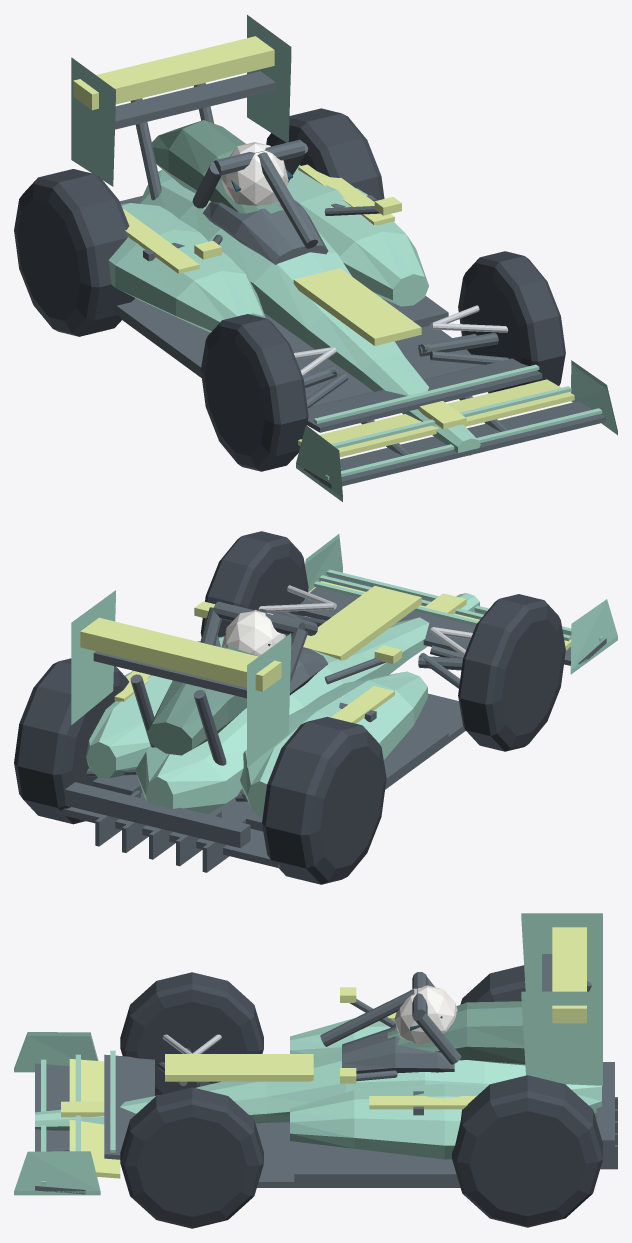
File: aston_mobile.glb
3 views of the same model, one above another, from view 1: azimuth 30°, elevation 25°; view 2: azimuth 150°, elevation 25°; view 3: azimuth 270°, elevation 25° (orthographic). The views are drawn at different scales.
Visible parts, largest first — view 1: BODY_paint, BODY_carbon, BODY_accent, RearLeftWheel_rubber, FrontLeftWheel_rubber, FrontRightWheel_rubber, RearRightWheel_rubber, BODY_paint_dark, BODY_helmet, BODY_metal; view 2: BODY_paint, BODY_carbon, RearLeftWheel_rubber, BODY_accent, FrontLeftWheel_rubber, RearRightWheel_rubber, FrontRightWheel_rubber, BODY_paint_dark, BODY_helmet, BODY_metal; view 3: BODY_paint, BODY_carbon, RearRightWheel_rubber, FrontRightWheel_rubber, BODY_accent, FrontLeftWheel_rubber, BODY_paint_dark, BODY_helmet, RearLeftWheel_rubber.
Boxes of the visible parts, x1,y1,x2,y2 form: BODY_paint: [71, 15, 617, 501]; BODY_carbon: [115, 71, 605, 488]; BODY_accent: [73, 36, 574, 457]; RearLeftWheel_rubber: [14, 169, 134, 336]; FrontLeftWheel_rubber: [200, 314, 308, 471]; FrontRightWheel_rubber: [458, 251, 565, 393]; RearRightWheel_rubber: [266, 108, 384, 200]; BODY_paint_dark: [152, 120, 283, 213]; BODY_helmet: [221, 142, 288, 205]; BODY_metal: [293, 305, 508, 376]; BODY_paint: [71, 534, 617, 817]; BODY_carbon: [56, 575, 606, 872]; RearLeftWheel_rubber: [262, 716, 386, 884]; BODY_accent: [80, 581, 571, 723]; FrontLeftWheel_rubber: [458, 594, 565, 751]; RearRightWheel_rubber: [14, 658, 128, 824]; FrontRightWheel_rubber: [200, 531, 308, 637]; BODY_paint_dark: [146, 647, 257, 755]; BODY_helmet: [221, 610, 285, 656]; BODY_metal: [258, 585, 472, 656]; BODY_paint: [14, 913, 602, 1195]; BODY_carbon: [35, 954, 617, 1194]; RearRightWheel_rubber: [452, 1075, 602, 1227]; FrontRightWheel_rubber: [120, 1087, 263, 1228]; BODY_accent: [61, 927, 586, 1178]; FrontLeftWheel_rubber: [120, 972, 263, 1095]; BODY_paint_dark: [387, 1001, 525, 1065]; BODY_helmet: [394, 985, 457, 1044]; RearLeftWheel_rubber: [460, 965, 525, 1004].
Bounding box in the file's own units: 2.59 × 1.9 × 4.88.
